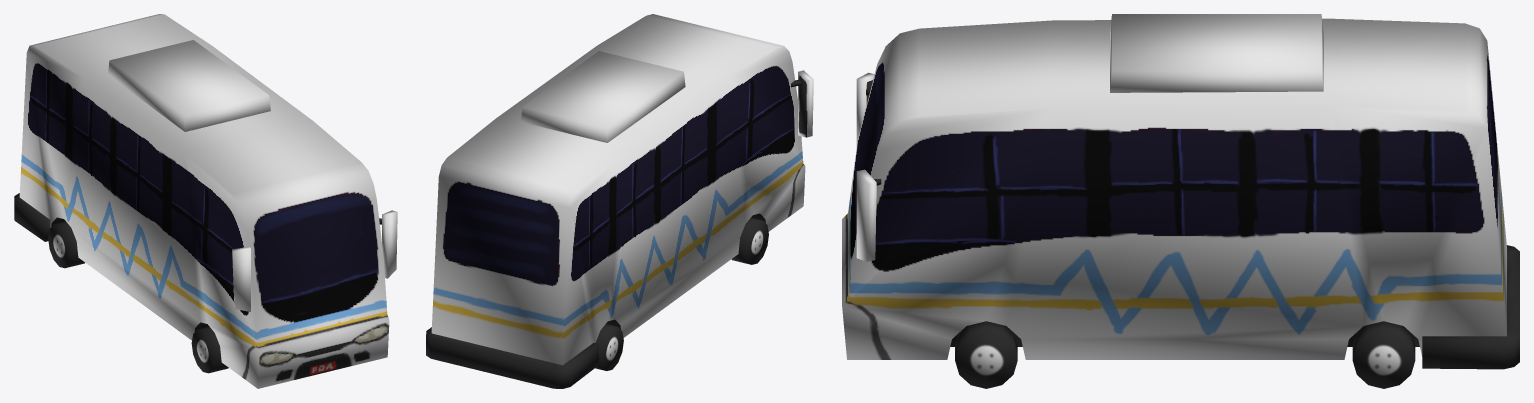
File: Onibus_1.glb
The picture shows the model from 3 angles, left to right: view 1: azimuth 30°, elevation 25°; view 2: azimuth 150°, elevation 25°; view 3: azimuth 270°, elevation 25°; orthographic projection. The views are drawn at different scales.
Parts seen in each view (by area): view 1: Lotacao; view 2: Lotacao; view 3: Lotacao.
Part boxes in pixels (x1=…): Lotacao: x1=14, y1=14, x2=397, y2=388; Lotacao: x1=426, y1=14, x2=813, y2=388; Lotacao: x1=842, y1=14, x2=1519, y2=388.
Bounding box in the file's own units: 3.58 × 4.47 × 9.17.
1 material, 1 textured.
